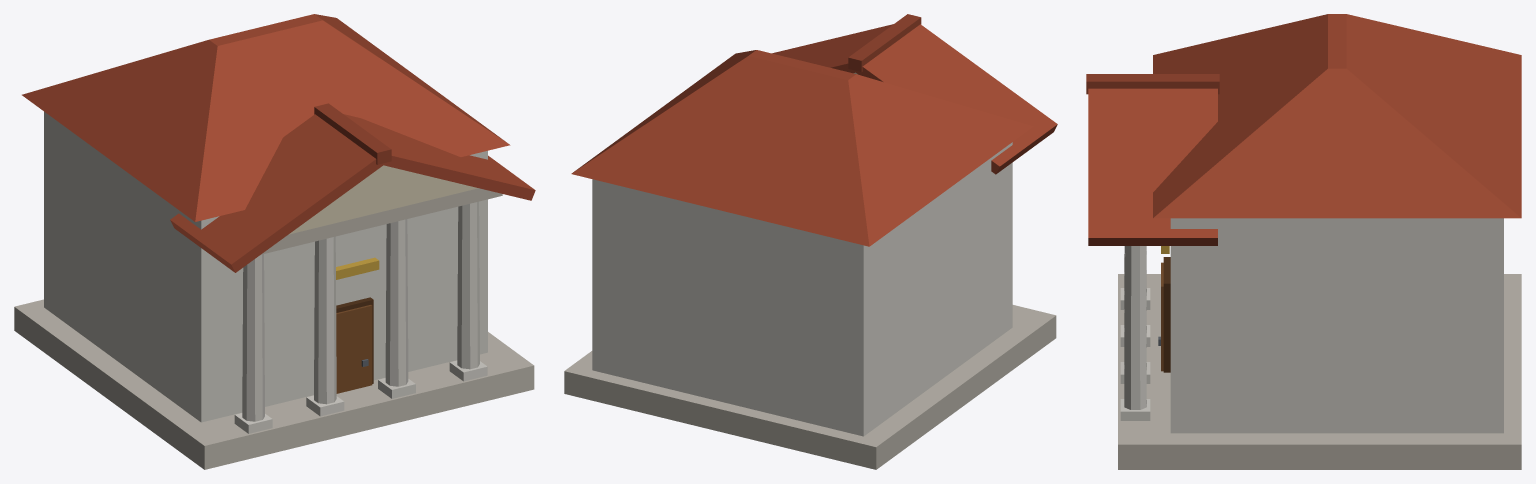
File: angel_house_a_broken.glb
The picture shows the model from 3 angles, left to right: view 1: azimuth 30°, elevation 25°; view 2: azimuth 150°, elevation 25°; view 3: azimuth 270°, elevation 25°; orthographic projection. The views are drawn at different scales.
Visible parts, largest first — view 1: angel_house_a_piece5, angel_house_a_piece1, angel_house_a_piece3, angel_house_a_piece0, angel_house_a_piece4, angel_house_a_piece8, angel_house_a_piece6, angel_house_a_piece2, angel_house_a_piece11; view 2: angel_house_a_piece0, angel_house_a_piece5, angel_house_a_piece11, angel_house_a_piece4, angel_house_a_piece7, angel_house_a_piece1, angel_house_a_piece3, angel_house_a_piece2, angel_house_a_piece6, angel_house_a_piece10, angel_house_a_piece9; view 3: angel_house_a_piece4, angel_house_a_piece1, angel_house_a_piece6, angel_house_a_piece11, angel_house_a_piece3, angel_house_a_piece0, angel_house_a_piece5, angel_house_a_piece2, angel_house_a_piece8, angel_house_a_piece10, angel_house_a_piece7.
Part boxes in pixels (x1=…): angel_house_a_piece5: x1=48, y1=130, x2=327, y2=469; angel_house_a_piece1: x1=275, y1=14, x2=526, y2=352; angel_house_a_piece3: x1=173, y1=23, x2=339, y2=444; angel_house_a_piece0: x1=14, y1=63, x2=189, y2=354; angel_house_a_piece4: x1=335, y1=17, x2=534, y2=413; angel_house_a_piece8: x1=326, y1=310, x2=410, y2=439; angel_house_a_piece6: x1=328, y1=16, x2=535, y2=310; angel_house_a_piece2: x1=326, y1=16, x2=437, y2=422; angel_house_a_piece11: x1=128, y1=38, x2=214, y2=92; angel_house_a_piece0: x1=714, y1=107, x2=936, y2=469; angel_house_a_piece5: x1=908, y1=58, x2=1057, y2=445; angel_house_a_piece11: x1=674, y1=78, x2=899, y2=304; angel_house_a_piece4: x1=564, y1=120, x2=663, y2=416; angel_house_a_piece7: x1=655, y1=205, x2=744, y2=436; angel_house_a_piece1: x1=657, y1=14, x2=954, y2=138; angel_house_a_piece3: x1=757, y1=49, x2=966, y2=126; angel_house_a_piece2: x1=619, y1=106, x2=670, y2=365; angel_house_a_piece6: x1=582, y1=52, x2=777, y2=275; angel_house_a_piece10: x1=656, y1=133, x2=727, y2=222; angel_house_a_piece9: x1=737, y1=358, x2=768, y2=443; angel_house_a_piece4: x1=1118, y1=207, x2=1521, y2=469; angel_house_a_piece1: x1=1086, y1=46, x2=1460, y2=335; angel_house_a_piece6: x1=1088, y1=154, x2=1521, y2=309; angel_house_a_piece11: x1=1342, y1=14, x2=1521, y2=161; angel_house_a_piece3: x1=1118, y1=14, x2=1391, y2=341; angel_house_a_piece0: x1=1423, y1=32, x2=1521, y2=340; angel_house_a_piece5: x1=1118, y1=34, x2=1241, y2=326; angel_house_a_piece2: x1=1118, y1=145, x2=1521, y2=394; angel_house_a_piece8: x1=1118, y1=257, x2=1170, y2=379; angel_house_a_piece10: x1=1436, y1=107, x2=1521, y2=171; angel_house_a_piece7: x1=1160, y1=349, x2=1521, y2=394.
Bounding box in the file's own units: 2.3 × 2.16 × 2.48.
